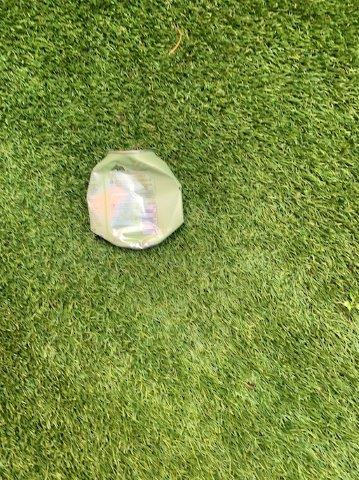kaleng: (87, 150, 184, 250)
